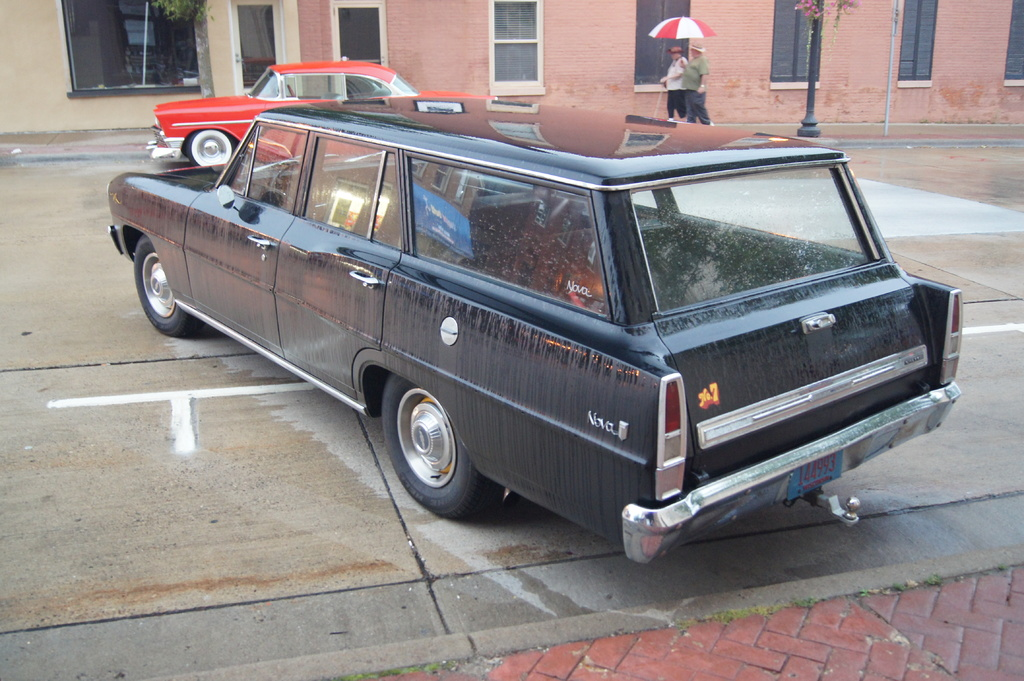Car: (101, 106, 966, 574), (145, 55, 498, 165)
